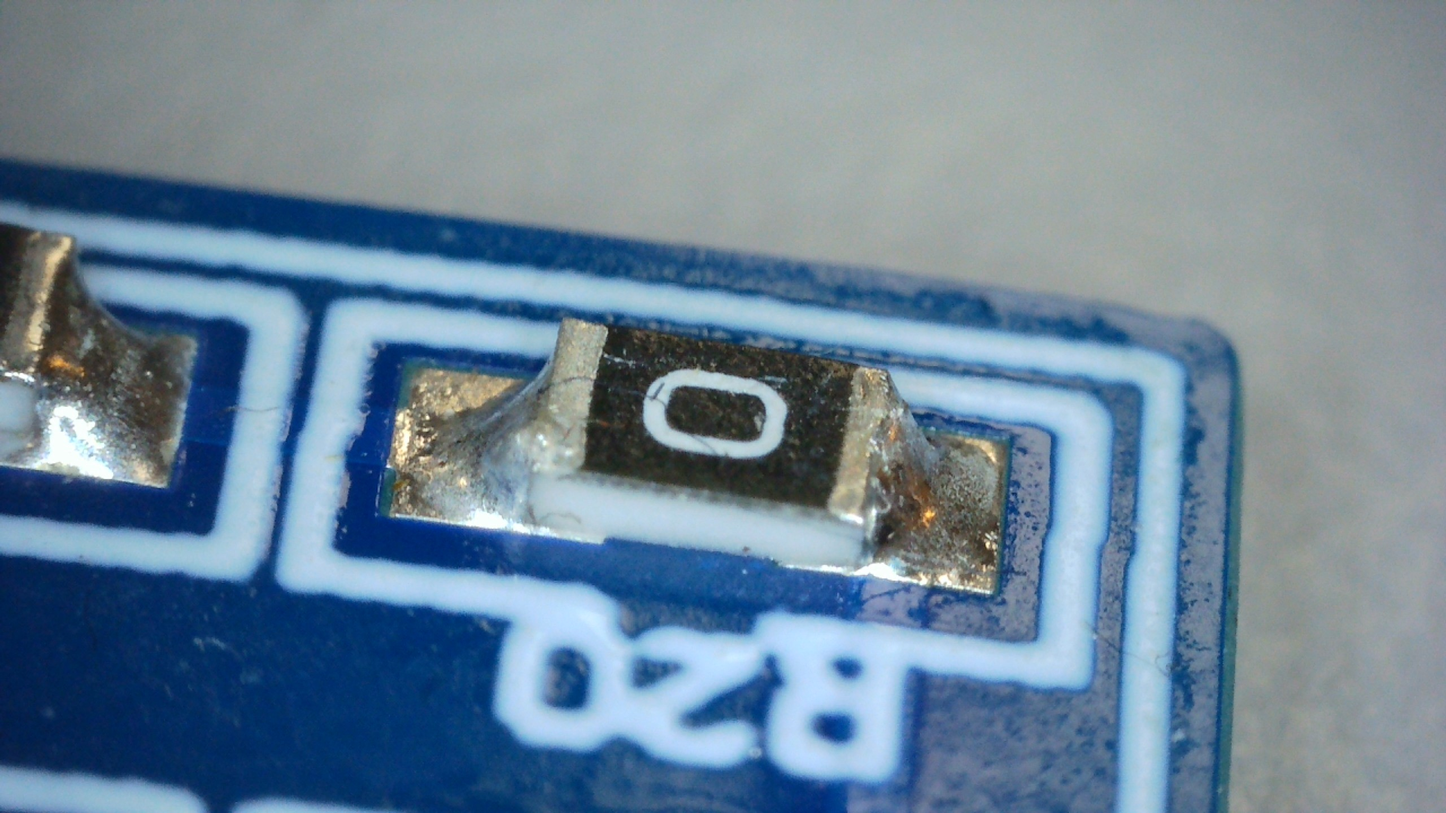NG: (421, 320, 607, 512), (827, 367, 982, 558)
